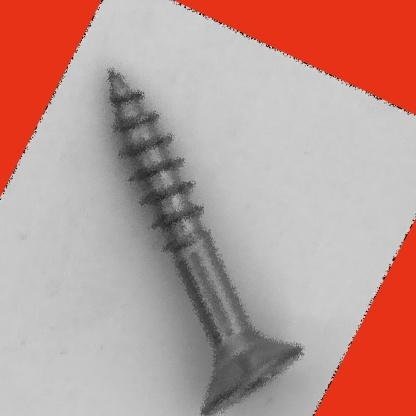metal: (107, 70, 304, 414)
